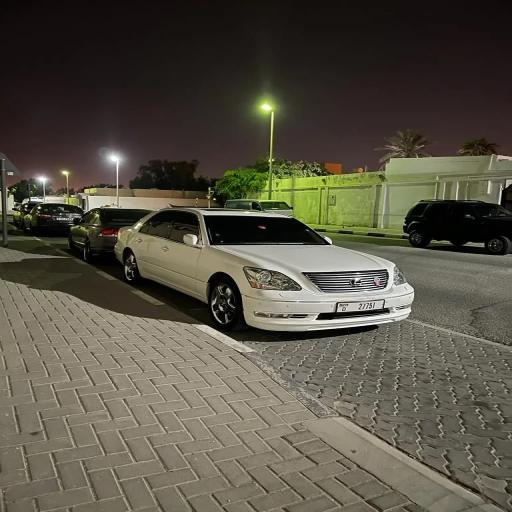license-plates: (337, 300, 384, 313)
